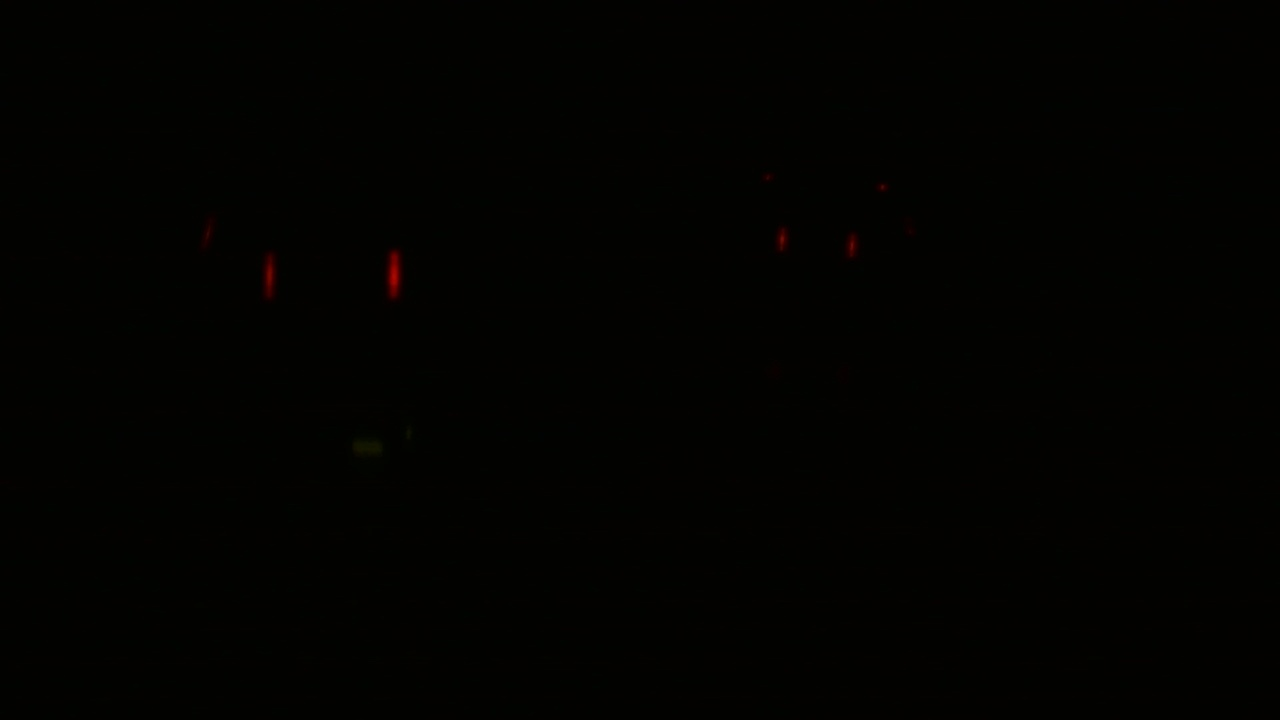pair1: (259, 243, 401, 305), (776, 222, 863, 255)
